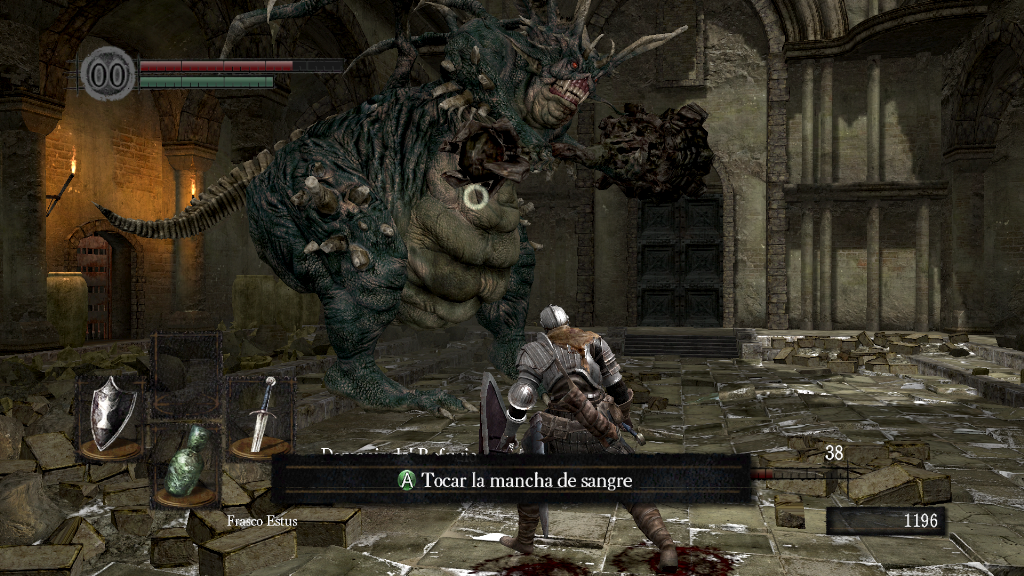asylumDemon: (93, 3, 715, 418)
dialogBox: (271, 455, 754, 508)
health: (138, 58, 343, 71)
humanity: (80, 45, 136, 102)
player: (478, 303, 682, 569)
souls: (825, 506, 945, 536)
stamina: (138, 74, 274, 88)
